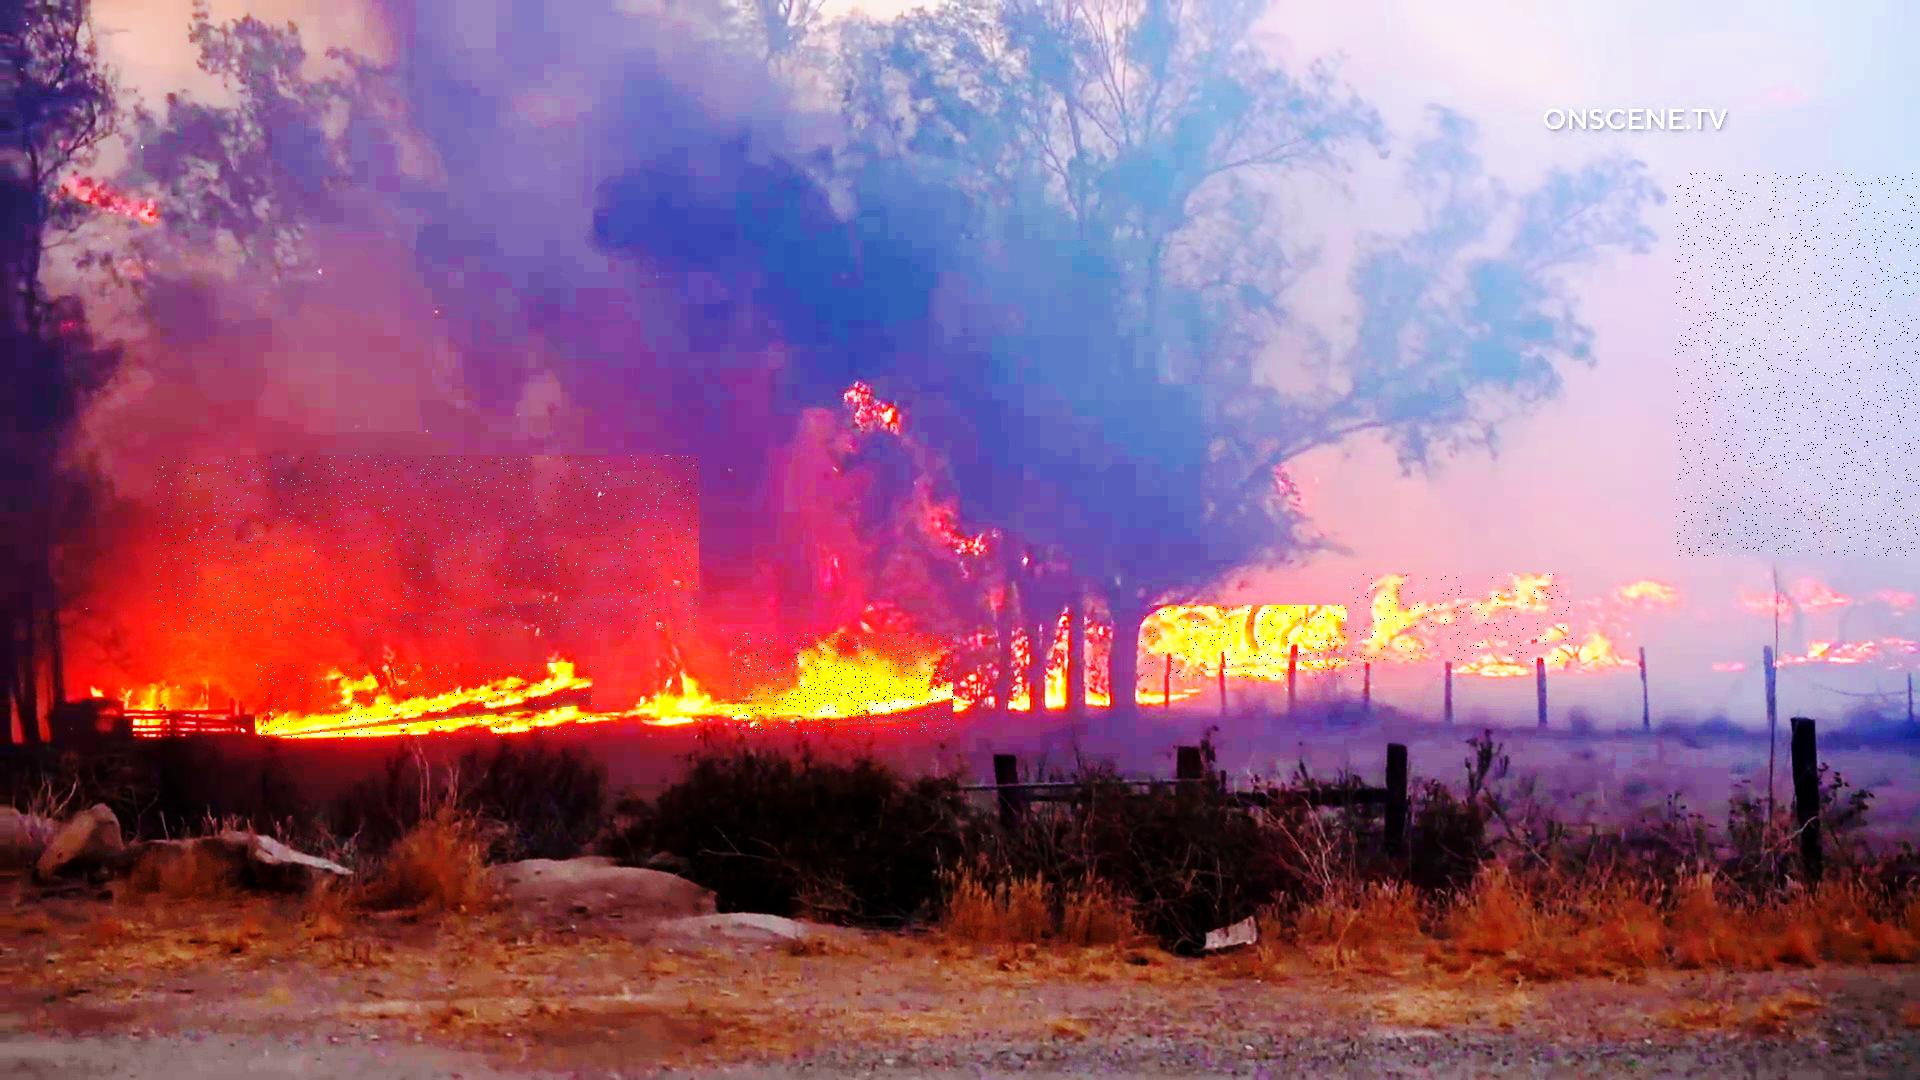fire: (255, 663, 599, 740), (733, 633, 956, 735), (1348, 574, 1576, 662), (1141, 605, 1367, 680)
smoke: (156, 456, 699, 636), (1676, 173, 1920, 556)
